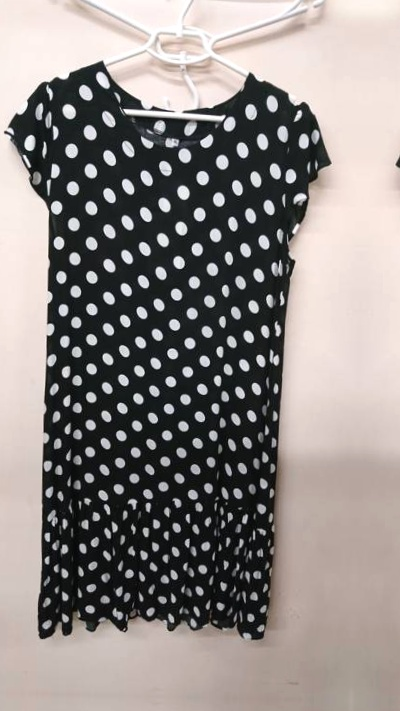Dress: (0, 35, 325, 653), (394, 45, 400, 663)
